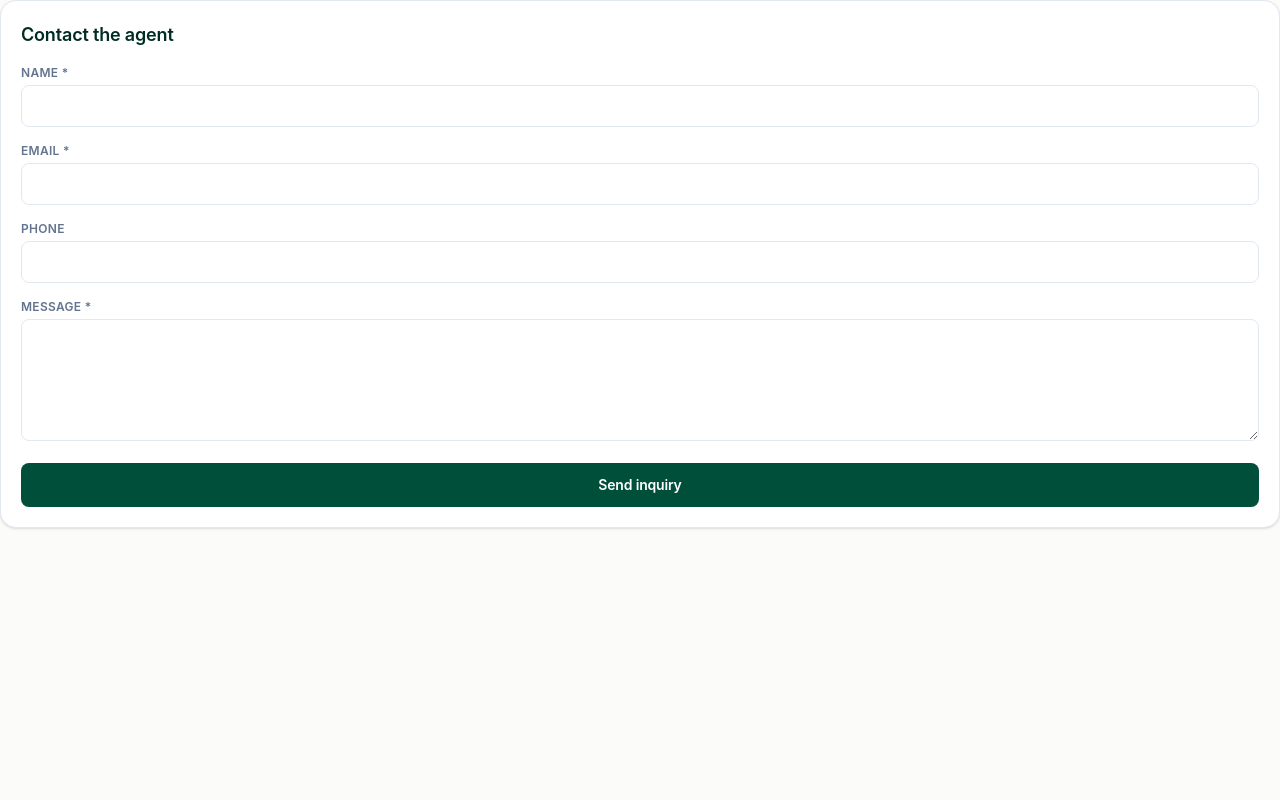
Test: ContactForm › renders English copy
The image size is (1280, 800).
Click the button "Send inquiry" at (640, 485), box [21,463,1259,507]
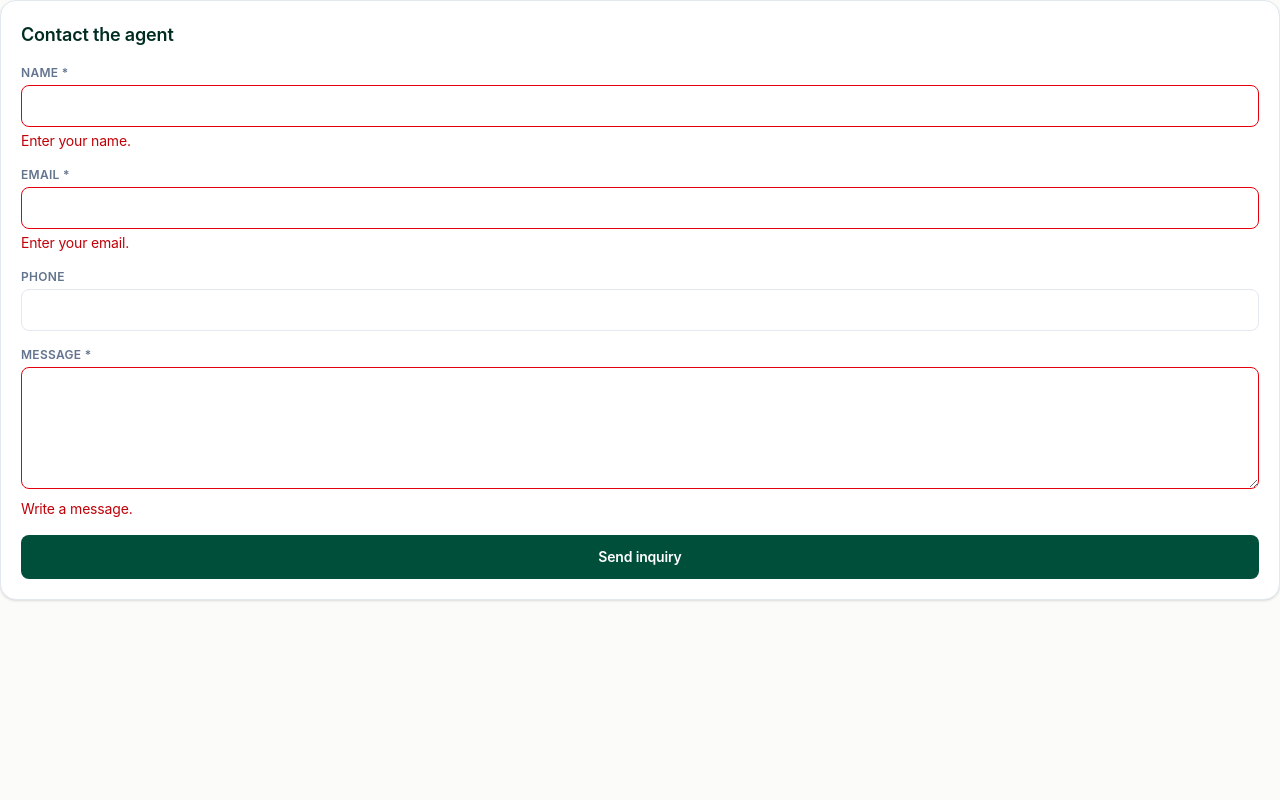
Now the text "Enter your name." is shown, box [21,132,131,149]
